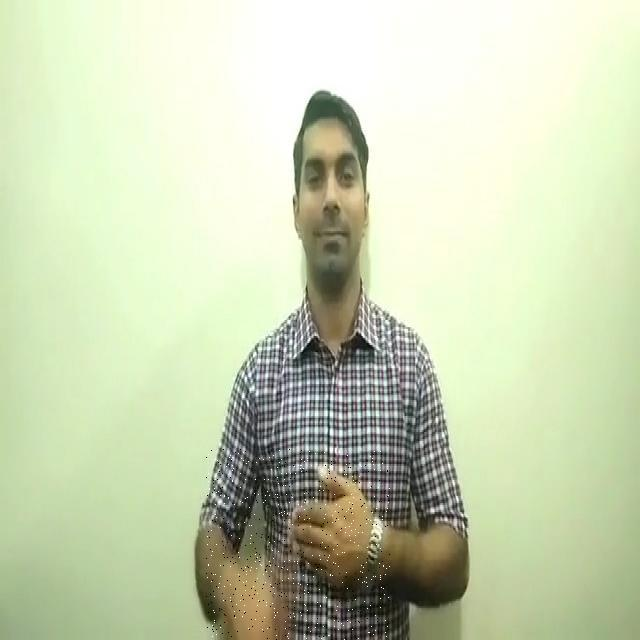bread: (206, 449, 390, 640)
